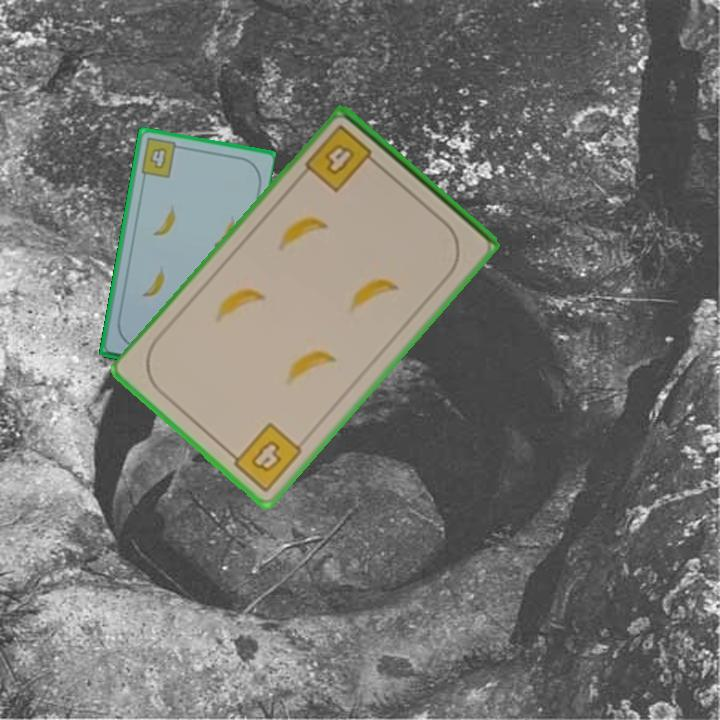4b: (223, 419, 306, 496), (301, 121, 383, 196), (137, 134, 185, 181)
